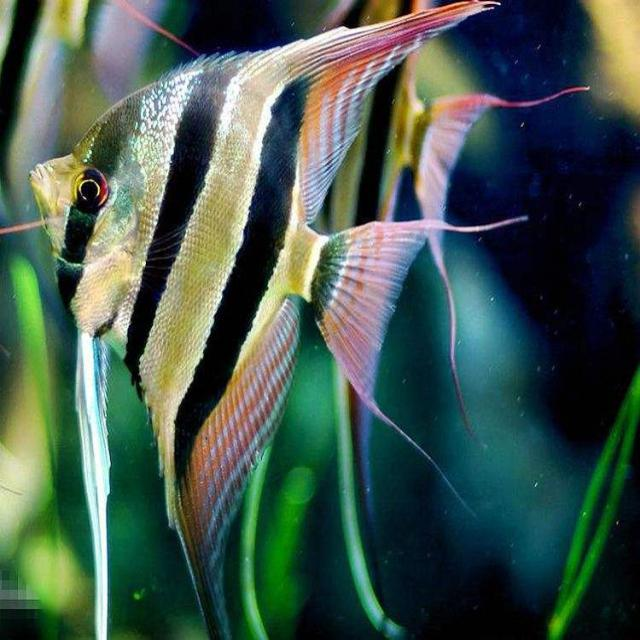AngelFish: (31, 3, 468, 629)
